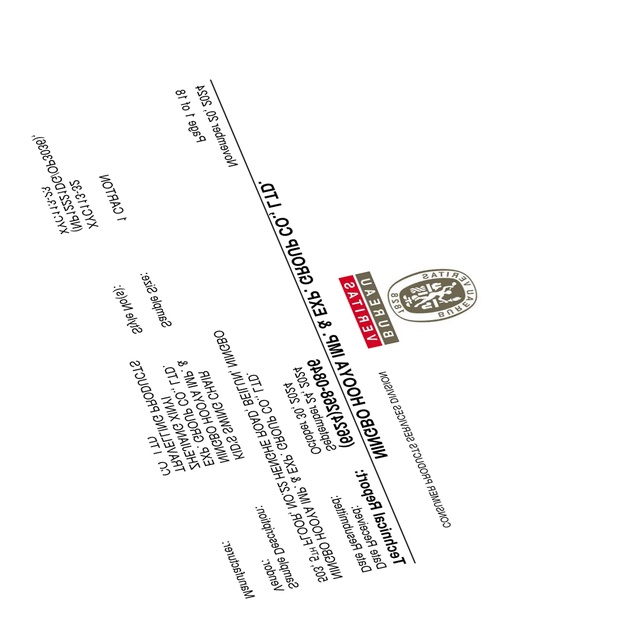bureau_veritas: (339, 268, 477, 350)
